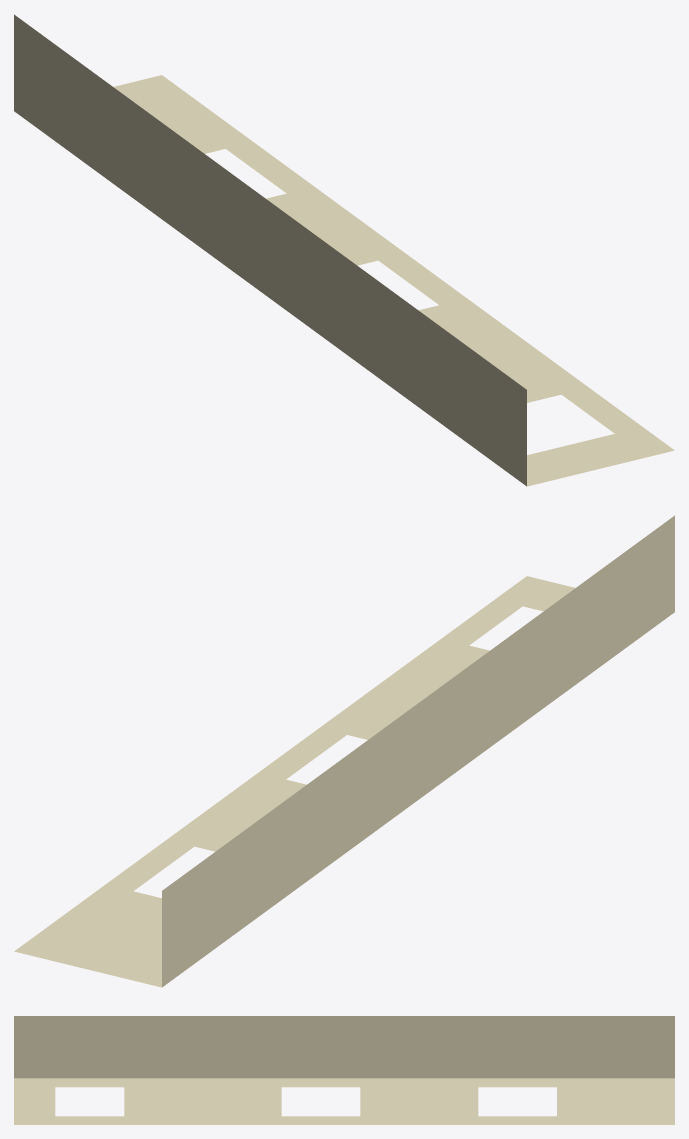
3 views of the same model, one above another, from view 1: azimuth 30°, elevation 25°; view 2: azimuth 150°, elevation 25°; view 3: azimuth 270°, elevation 25° (orthographic). The views are drawn at different scales.
Visible parts, largest first — view 1: новый коридор; view 2: новый коридор; view 3: новый коридор.
Boxes of the visible parts, x1,y1,x2,y2 form: новый коридор: (14,14,674,486); новый коридор: (14,515,674,987); новый коридор: (14,1016,674,1124).
Size of the model in its own units: 214 by 134 by 1285.
